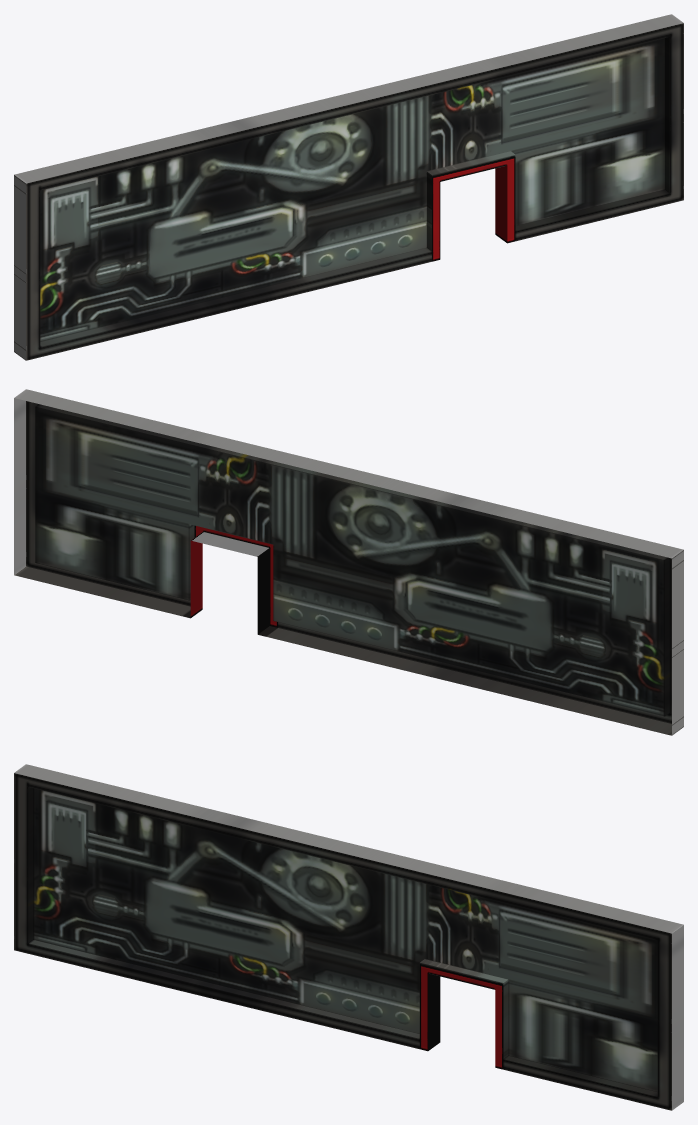
The model's file is NONE_RIGHT.fbx.
The picture shows the model from 3 angles, top to bottom: view 1: azimuth 30°, elevation 25°; view 2: azimuth 150°, elevation 25°; view 3: azimuth 330°, elevation 25°; orthographic projection.
Parts seen in each view (by area): view 1: wall5; view 2: wall5; view 3: wall5.
Part boxes in pixels (left/top/right/bottom): wall5: left=14, top=14, right=683, bottom=360; wall5: left=14, top=389, right=683, bottom=735; wall5: left=14, top=764, right=683, bottom=1110.
Size of the model in its own units: 39.99 by 10.3 by 1.27.
1 material, 1 textured.
